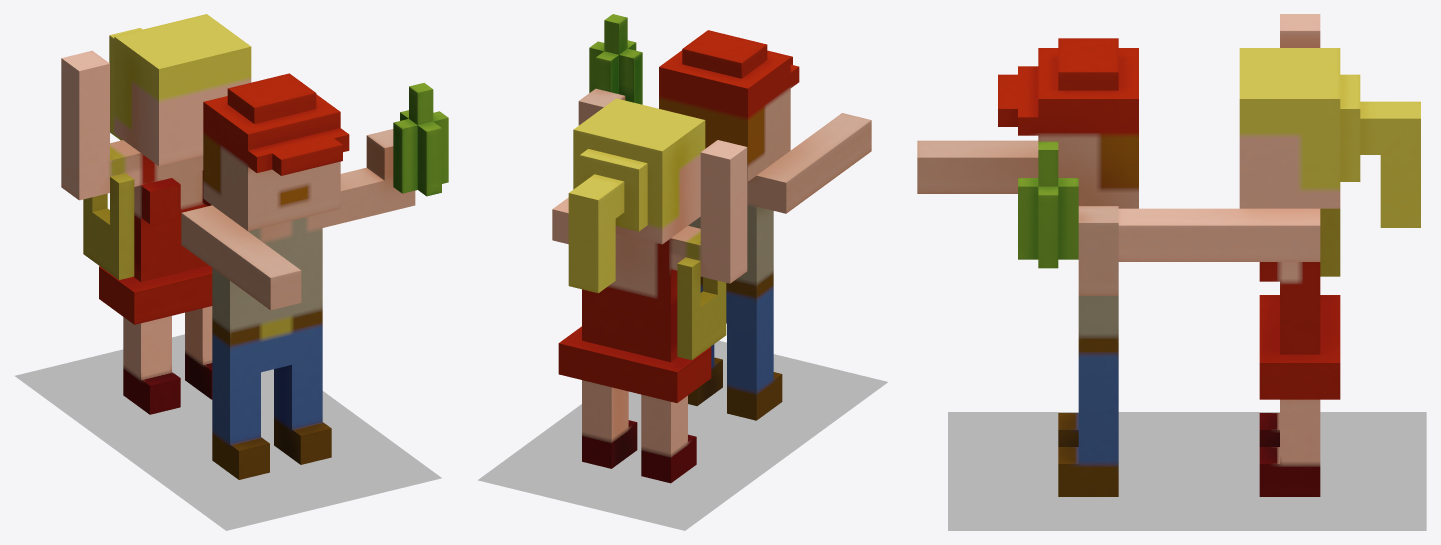
File: conga_line_body_v1.FBX
3 renders of one model, left to right at view 1: azimuth 30°, elevation 25°; view 2: azimuth 150°, elevation 25°; view 3: azimuth 270°, elevation 25°, orthographic. The views are drawn at different scales.
Visible parts, largest first — view 1: conga_line_body_v1, conga_line_soft_shadow; view 2: conga_line_body_v1, conga_line_soft_shadow; view 3: conga_line_body_v1, conga_line_soft_shadow.
Part boxes in pixels (x1,y1,x2,y2): conga_line_body_v1: (61,14,448,479); conga_line_soft_shadow: (15,334,441,530); conga_line_body_v1: (552,14,871,483); conga_line_soft_shadow: (478,340,887,530); conga_line_body_v1: (917,14,1420,496); conga_line_soft_shadow: (948,412,1426,530).
Size of the model in its own units: 850 by 1150 by 1264.
